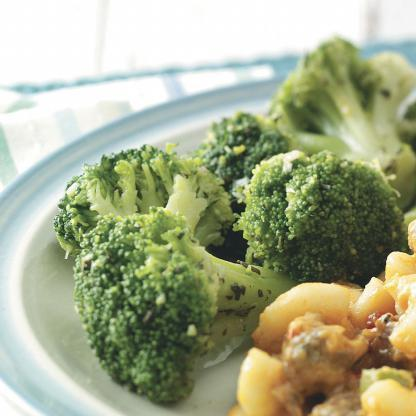broccoli: (55, 33, 416, 399)
